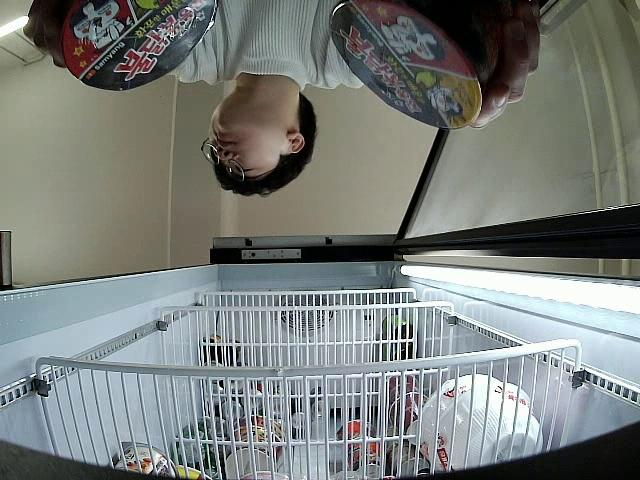00_hand: (471, 0, 541, 129), (23, 0, 66, 69)
08_buldak_S: (331, 0, 501, 132), (58, 0, 215, 92)
